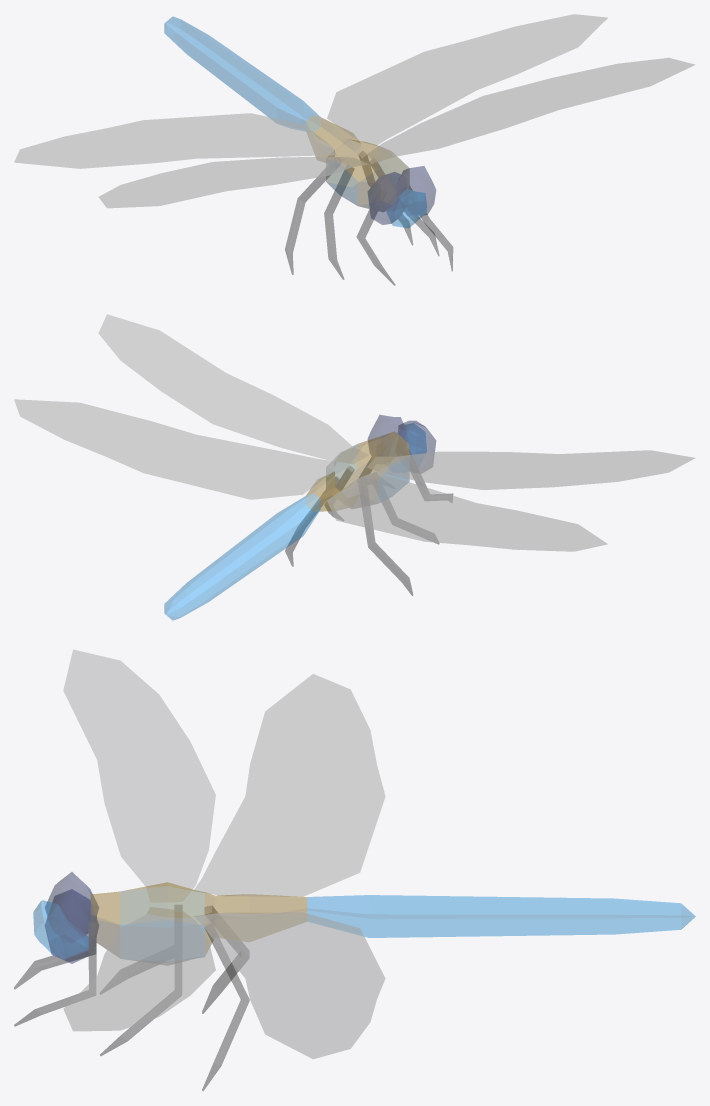
Rendered from Dragonfly.glb.
3 renders of one model, top to bottom at view 1: azimuth 30°, elevation 25°; view 2: azimuth 150°, elevation 25°; view 3: azimuth 270°, elevation 25°, orthographic. The views are drawn at different scales.
Visible parts, largest first — view 1: Mesh_Dragonfly; view 2: Mesh_Dragonfly; view 3: Mesh_Dragonfly.
Part boxes in pixels (x1,y1,x2,y2): Mesh_Dragonfly: [14, 14, 694, 285]; Mesh_Dragonfly: [14, 314, 694, 620]; Mesh_Dragonfly: [14, 649, 695, 1090].
Bounding box in the file's own units: 13.33 × 3.42 × 9.96.
Materials: 2 (1 with a texture image).
